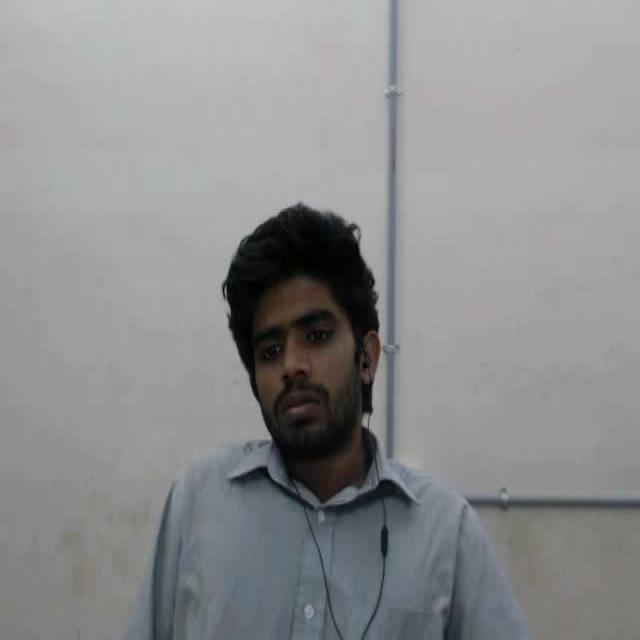Engaged: (188, 166, 404, 493)
